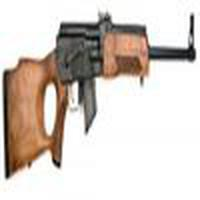gun: (5, 17, 200, 163)
